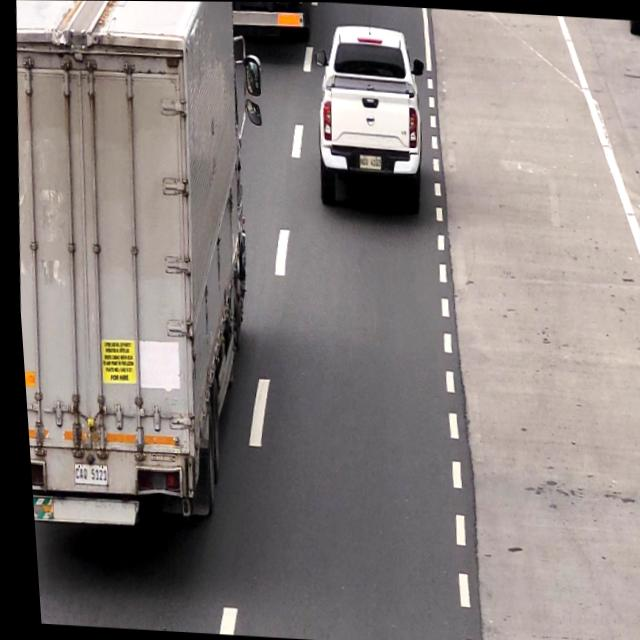Car: (307, 25, 427, 220)
License-Plate: (66, 459, 106, 487), (356, 152, 382, 172)
Truck: (0, 0, 269, 543)
